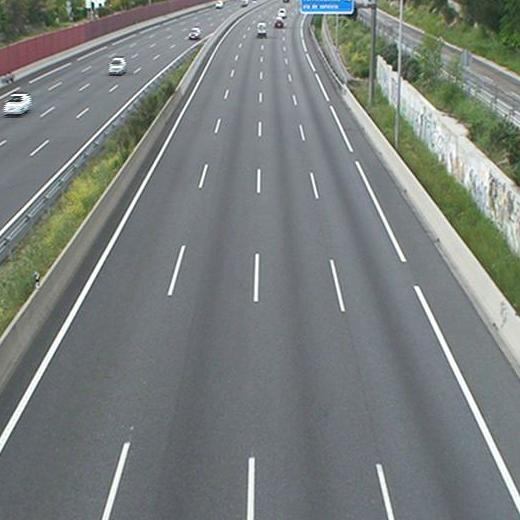car: (274, 19, 283, 29)
van: (257, 22, 267, 37)
